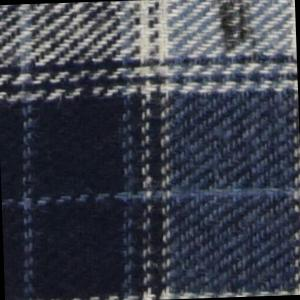Stain: (213, 1, 264, 68)
